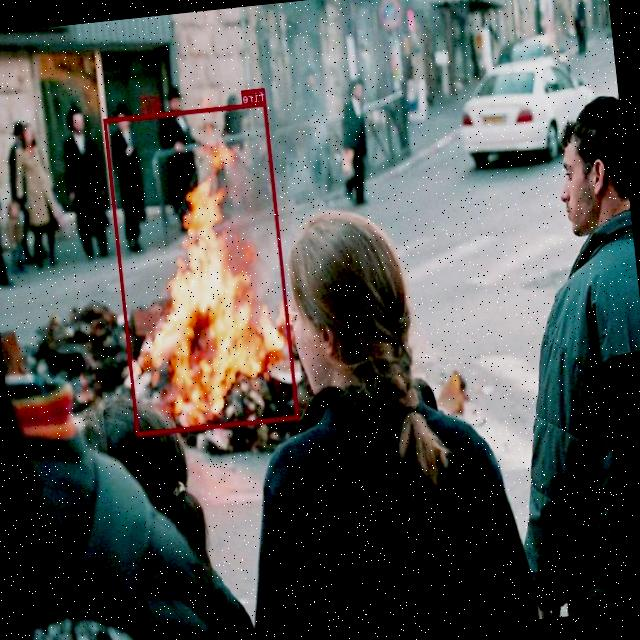fire: (104, 101, 299, 435)
